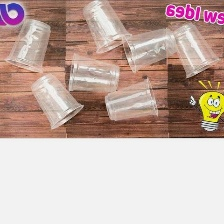glass: (26, 70, 86, 133), (167, 19, 224, 80), (116, 25, 180, 75), (79, 0, 134, 54), (2, 16, 54, 73), (102, 74, 160, 125), (63, 50, 122, 97)
